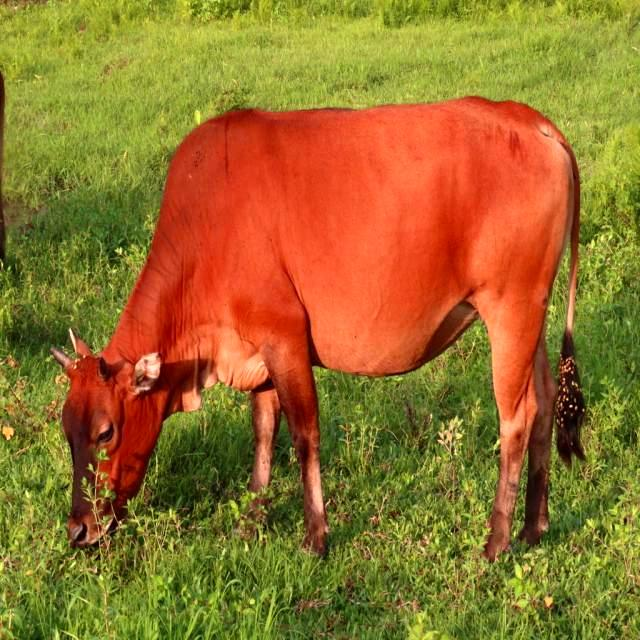COW: (52, 98, 581, 559)
